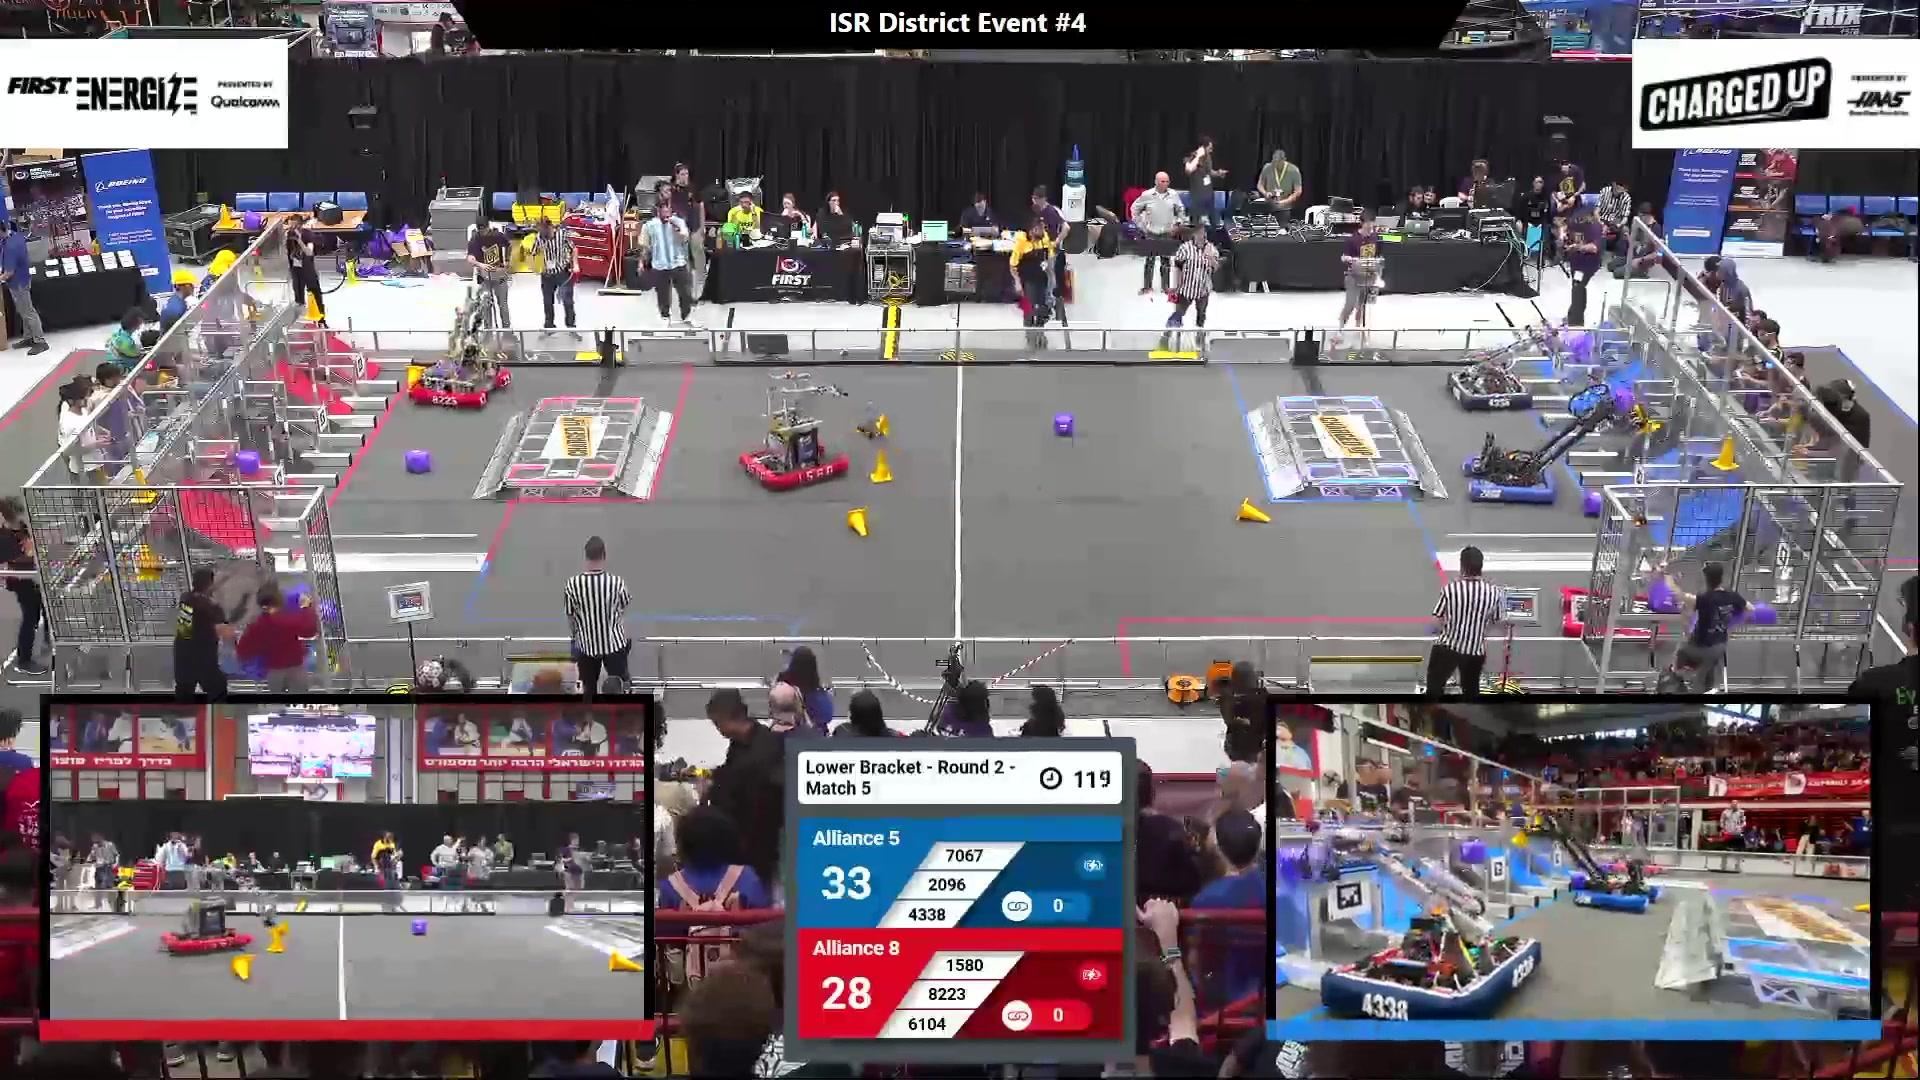robot: (1276, 822, 1543, 1018), (133, 520, 323, 673), (1461, 385, 1651, 506), (735, 368, 878, 489), (1557, 516, 1672, 646), (405, 281, 516, 413), (1514, 814, 1662, 910), (160, 864, 282, 959), (1448, 326, 1563, 411), (1447, 348, 1534, 410), (1610, 811, 1662, 878)
